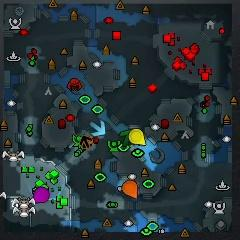p3: (34, 187, 50, 203)
p4: (129, 128, 146, 146)
p5: (122, 180, 138, 199)
x3: (90, 120, 106, 136)
x4: (120, 130, 131, 146)
x5Clone: (79, 135, 93, 149)
